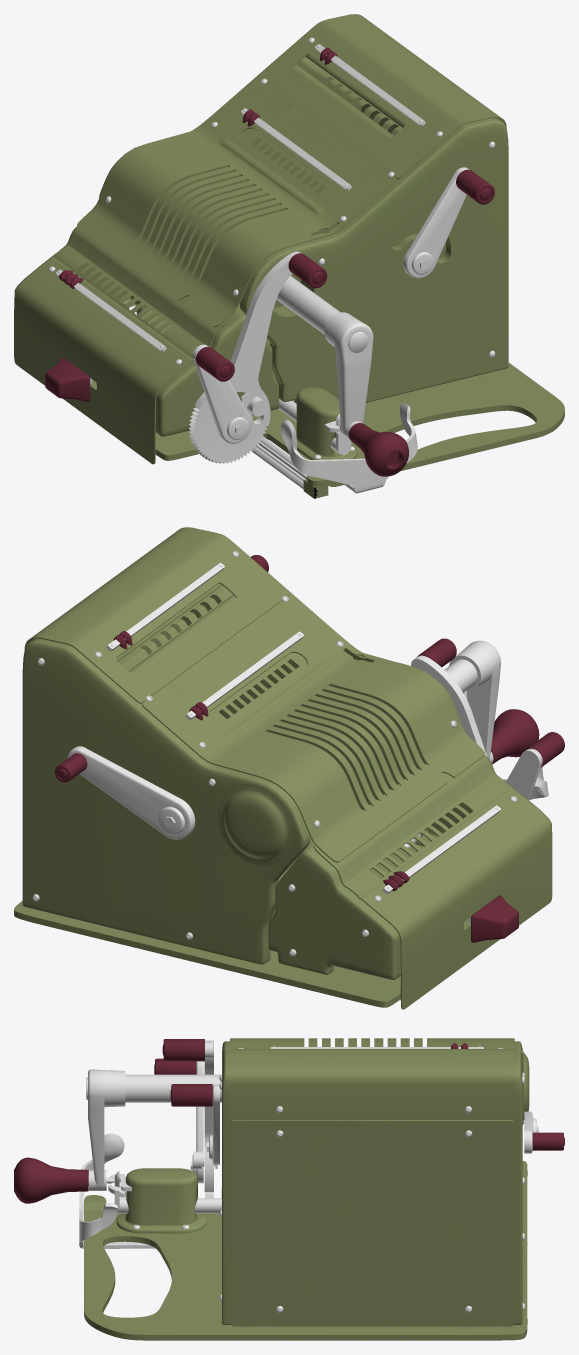
The model's file is brunsviga.glb.
3 renders of one model, top to bottom at view 1: azimuth 30°, elevation 25°; view 2: azimuth 150°, elevation 25°; view 3: azimuth 270°, elevation 25°, orthographic. The views are drawn at different scales.
Parts seen in each view (by area): view 1: Body, Sled, Circle.007, Cylinder.022, Cylinder.018, Cylinder.021, Plane.037, Plane.040, Cylinder.026, Cube.022, Cylinder.024, Plane.031 (+1 smaller); view 2: Body, Sled, Cylinder.020, Cylinder.022, Plane.040, Circle.007, Cylinder.026, Cylinder.021, Cube.022, Plane.031; view 3: Body, Cylinder.022, Cylinder.026, Circle.007, Plane.037, Cylinder.018, Cylinder.021, Cylinder.020, Cylinder.019, Plane.031.
Boxes of the visible parts, bbox=[...] form: Body: bbox=[77, 14, 564, 486]; Sled: bbox=[14, 226, 278, 464]; Circle.007: bbox=[188, 251, 327, 463]; Cylinder.022: bbox=[276, 276, 373, 435]; Cylinder.018: bbox=[403, 167, 494, 278]; Cylinder.021: bbox=[192, 344, 251, 443]; Plane.037: bbox=[281, 403, 417, 493]; Plane.040: bbox=[293, 55, 405, 138]; Cylinder.026: bbox=[348, 423, 408, 476]; Cube.022: bbox=[45, 357, 91, 401]; Cylinder.024: bbox=[251, 437, 307, 489]; Plane.031: bbox=[315, 44, 425, 126]; Body: bbox=[14, 527, 485, 1007]; Sled: bbox=[268, 755, 552, 1009]; Cylinder.020: bbox=[55, 746, 195, 839]; Cylinder.022: bbox=[444, 640, 501, 759]; Plane.040: bbox=[116, 583, 235, 673]; Circle.007: bbox=[411, 638, 486, 755]; Cylinder.026: bbox=[491, 709, 539, 764]; Cylinder.021: bbox=[506, 732, 564, 800]; Cube.022: bbox=[469, 895, 518, 942]; Plane.031: bbox=[106, 563, 224, 651]; Body: bbox=[84, 1038, 529, 1340]; Cylinder.022: bbox=[86, 1069, 221, 1189]; Cylinder.026: bbox=[14, 1157, 114, 1203]; Circle.007: bbox=[162, 1039, 217, 1198]; Plane.037: bbox=[79, 1133, 155, 1248]; Cylinder.018: bbox=[170, 1084, 219, 1164]; Cylinder.021: bbox=[154, 1058, 203, 1183]; Cylinder.020: bbox=[524, 1111, 564, 1153]; Cylinder.019: bbox=[114, 1171, 221, 1213]; Plane.031: bbox=[270, 1047, 483, 1048].
Size of the model in its own units: 3.68 by 2.44 by 4.4.
Materials: 3 (1 with a texture image).
